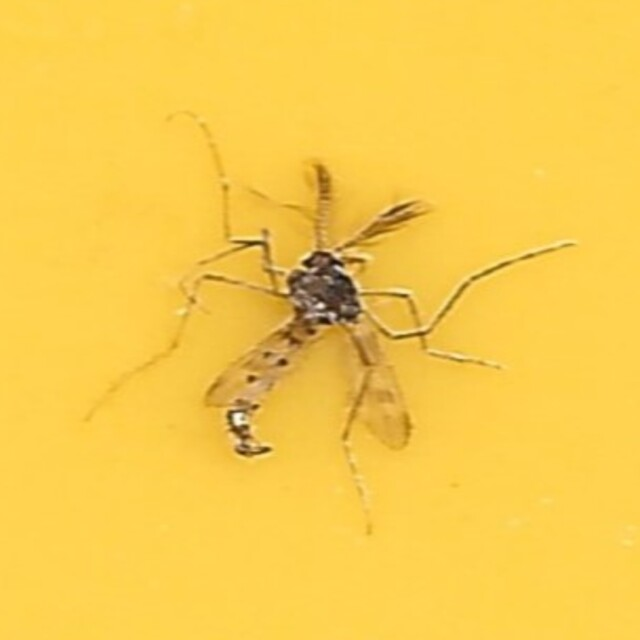Nematocera: (211, 162, 429, 478)
